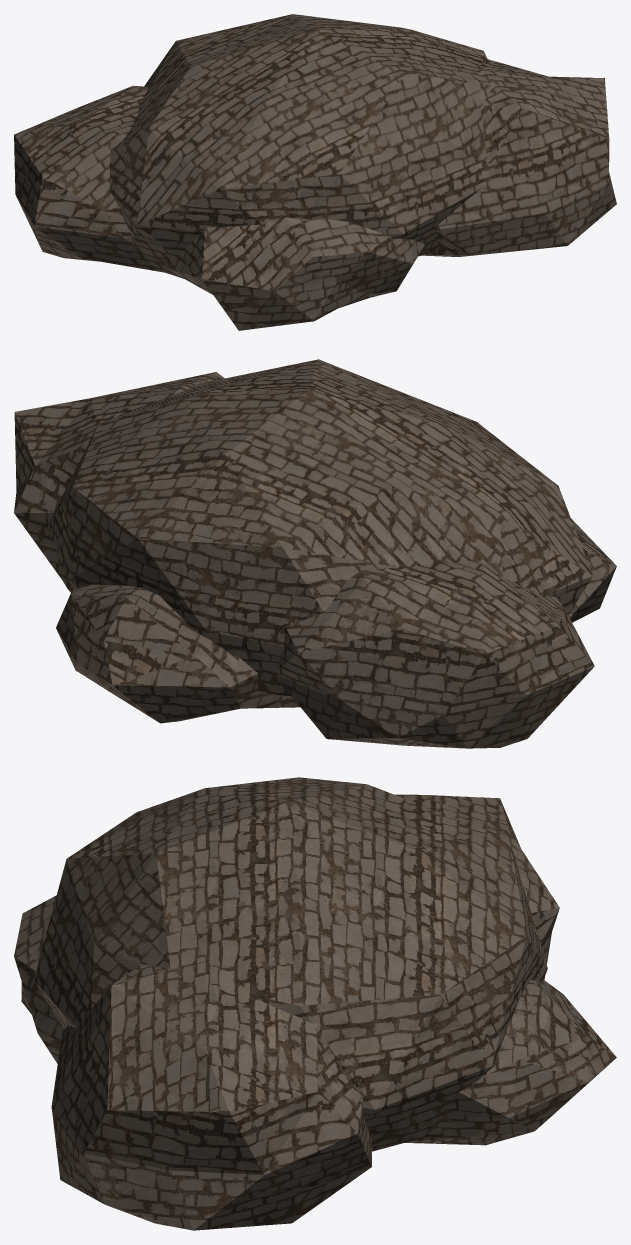
The model's file is Kenya_Rift_Boulder_Cliff.glb.
The picture shows the model from 3 angles, top to bottom: view 1: azimuth 30°, elevation 25°; view 2: azimuth 150°, elevation 25°; view 3: azimuth 270°, elevation 25°; orthographic projection. The views are drawn at different scales.
Visible parts, largest first — view 1: VolcanicOutcrop; view 2: VolcanicOutcrop; view 3: VolcanicOutcrop.
Boxes of the visible parts, x1,y1,x2,y2 form: VolcanicOutcrop: (14, 14, 616, 330); VolcanicOutcrop: (14, 359, 616, 748); VolcanicOutcrop: (14, 777, 616, 1230).
Size of the model in its own units: 11.15 by 4.3 by 8.11.
1 material, 1 textured.
